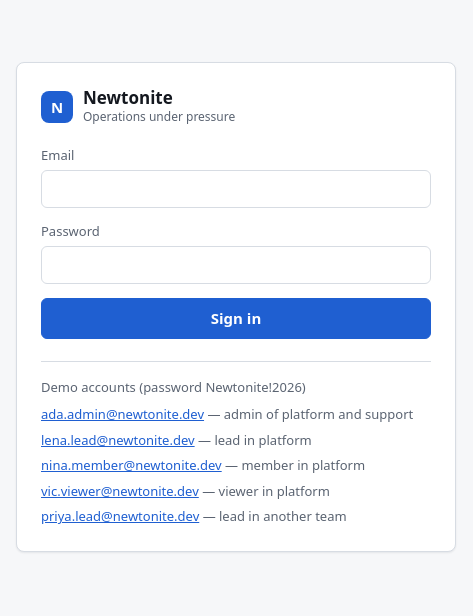
Test case: LoginPage › shows the API’s message when the credentials are refused
Step 1. Type "nina.member@newtonite.dev" into the field labelled "Email" → [236, 189], box [41, 170, 431, 208]
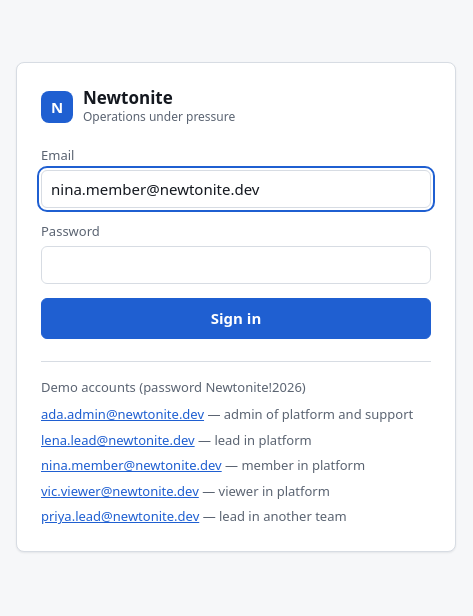
Step 2. Type "wrong" into the password field labelled "Password" → [236, 265], box [41, 246, 431, 284]
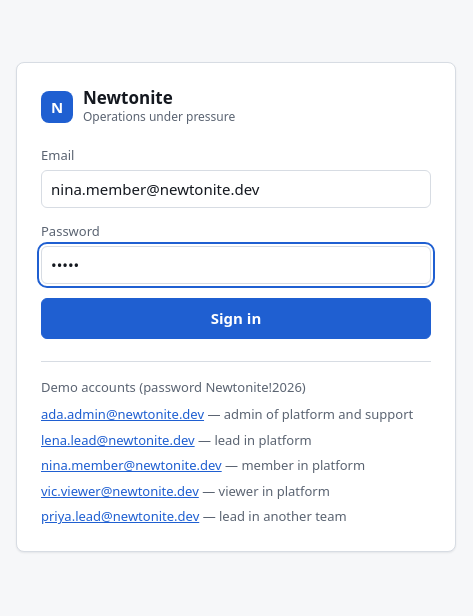
Step 3. Click the button "Sign in" → [236, 319], box [41, 298, 431, 339]
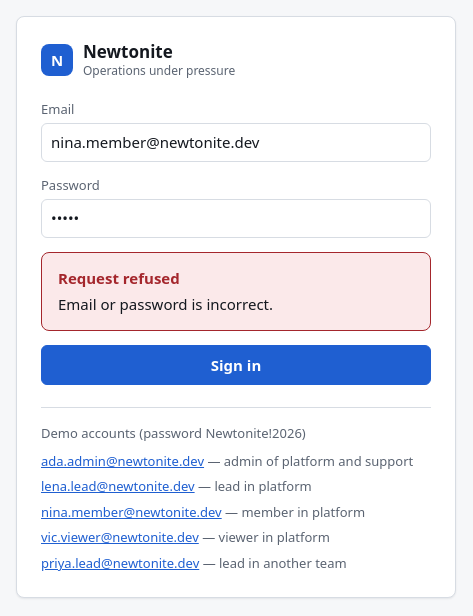
Check: the message shows "Email or password is incorrect", box [58, 294, 273, 314]
